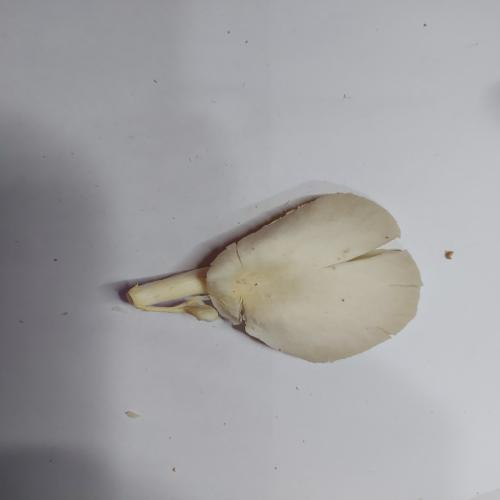Oyster Mushroom: (125, 189, 424, 364)
